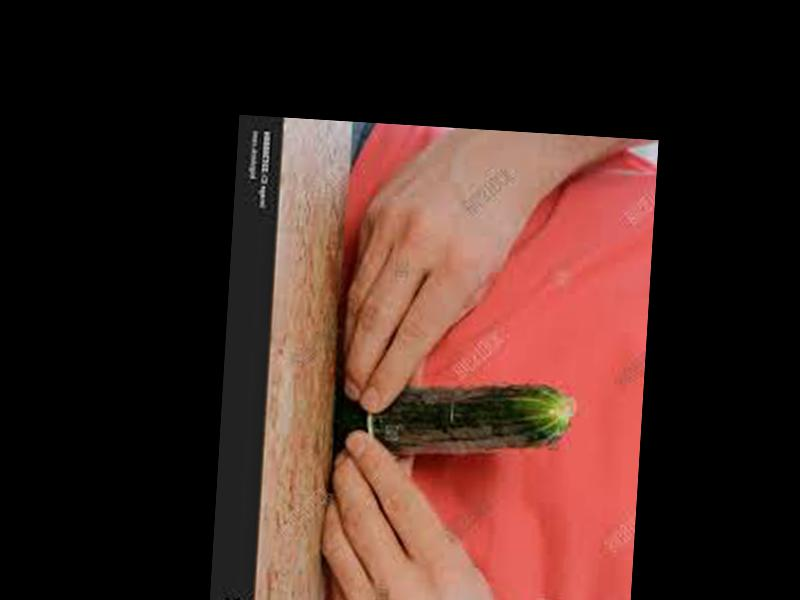Cucumber: (334, 371, 574, 464)
